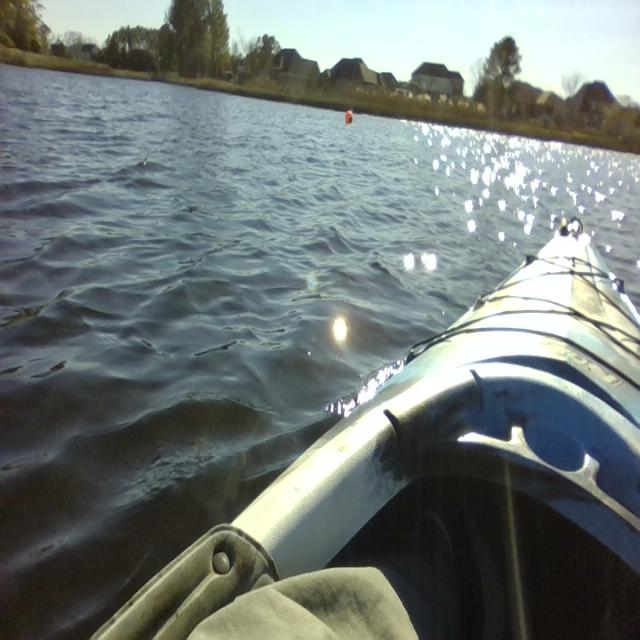Buoy: (342, 106, 358, 128)
